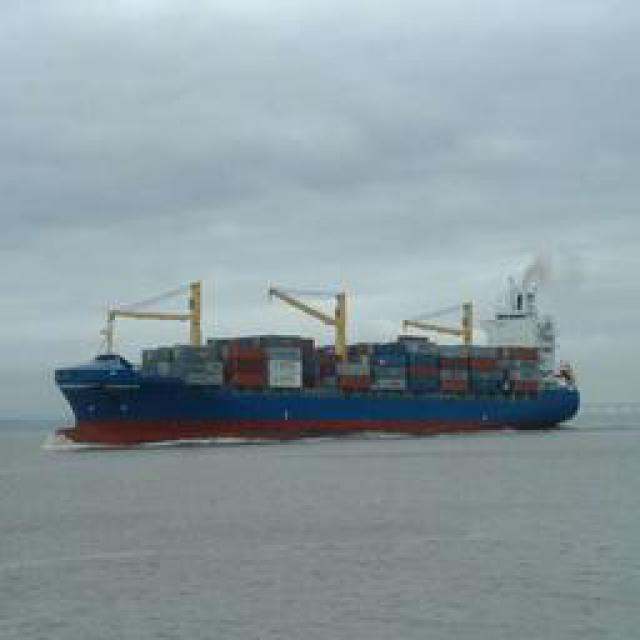Ship: (43, 255, 591, 450)
